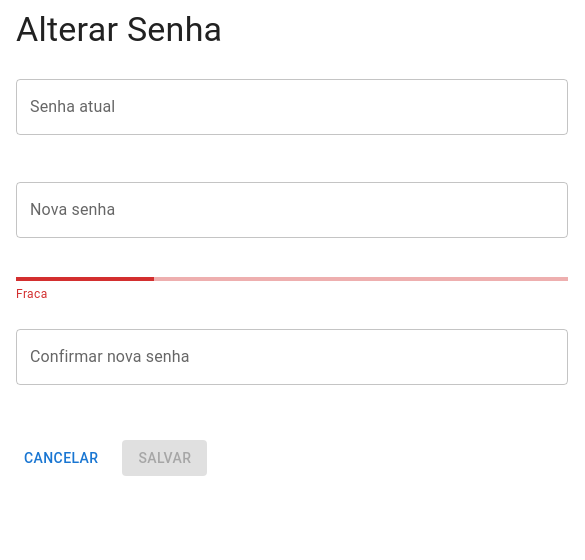
Scenario: SenhaPage › PUT 500 exibe mensagem generica do backend no alert
In the password field labelled "Senha atual": x=292, y=107 [16,79,568,135], type "OldPass1"
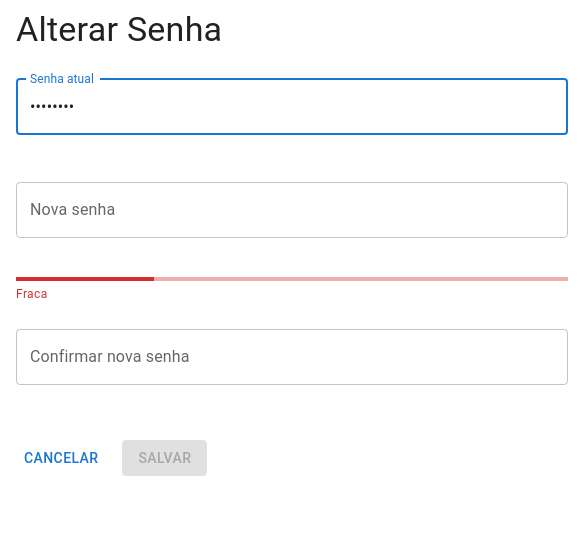
In the password field labelled "Nova senha": x=292, y=210 [16,182,568,238], type "NovaSenha123"
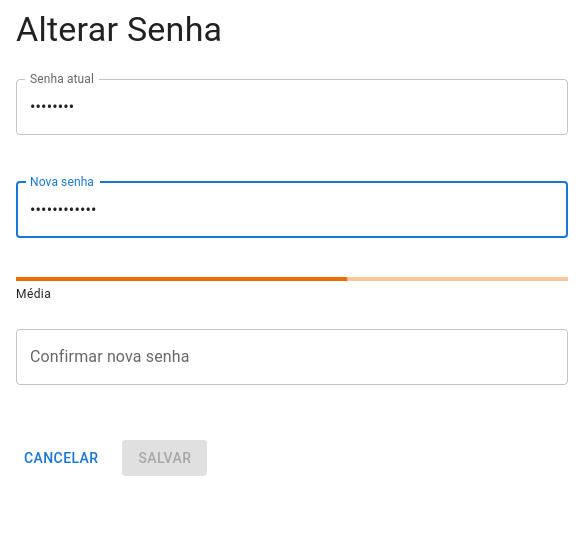
In the password field labelled "Confirmar nova senha": x=292, y=357 [16,329,568,385], type "NovaSenha123"
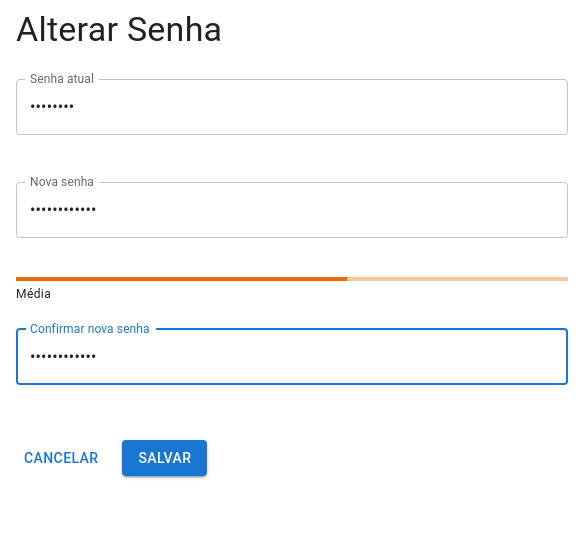
Click the button "Salvar": x=165, y=458 [122,440,207,476]
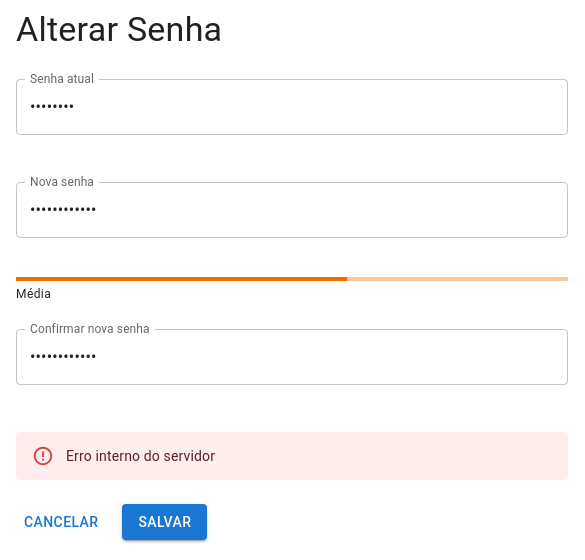
Now the text "Erro interno do servidor" is shown, box [66,448,215,464]
